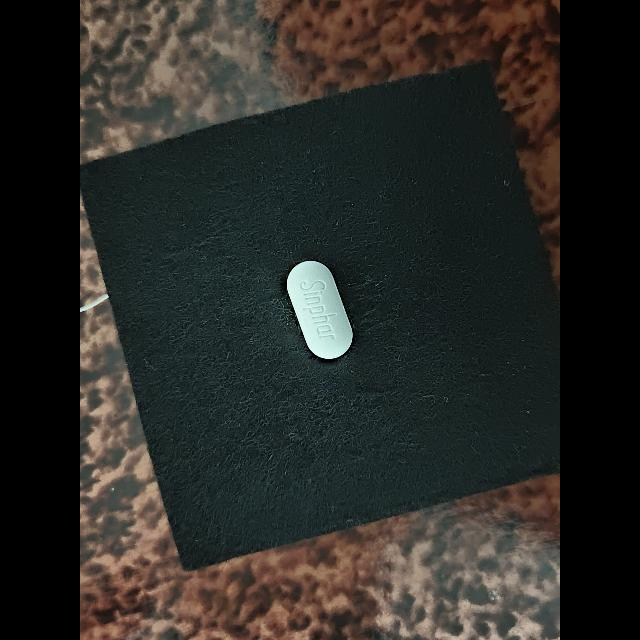Intact Pill: (286, 260, 353, 359)
